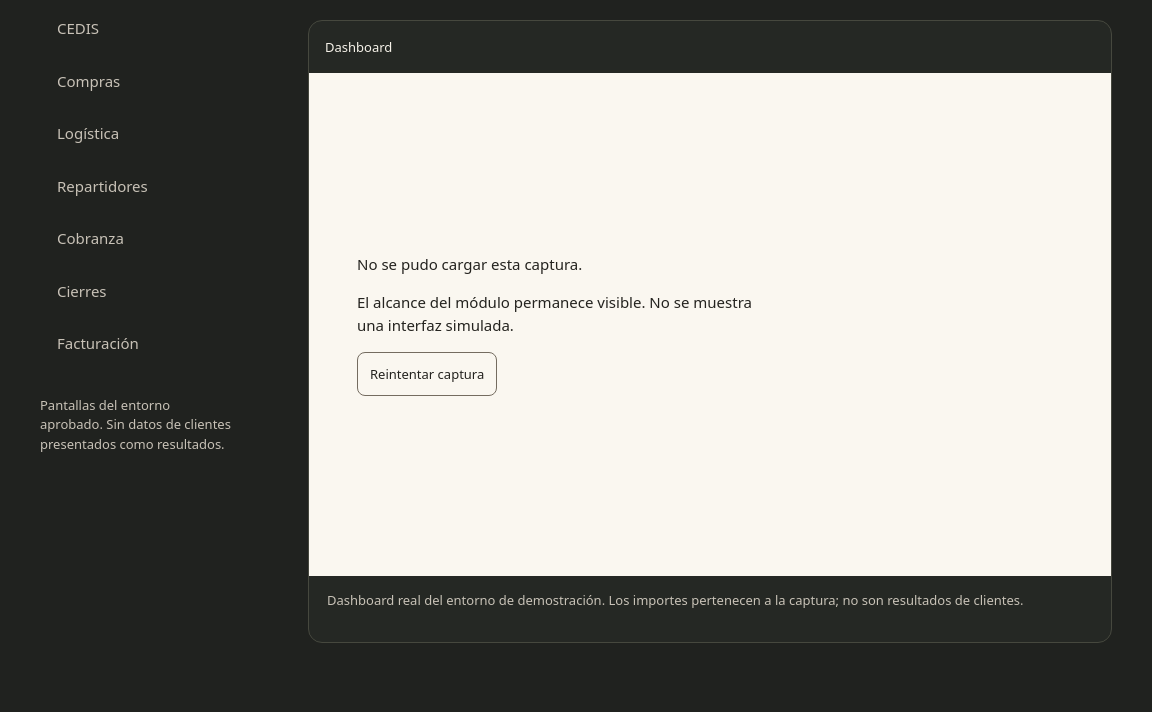
Test: Visible Operations P0 › keeps a failed capture's module visible and offers retry without fabricating interface content
The image size is (1152, 712).
(page scrolled)
Click the button "Reintentar captura" at (427, 374), box [357,352,497,396]
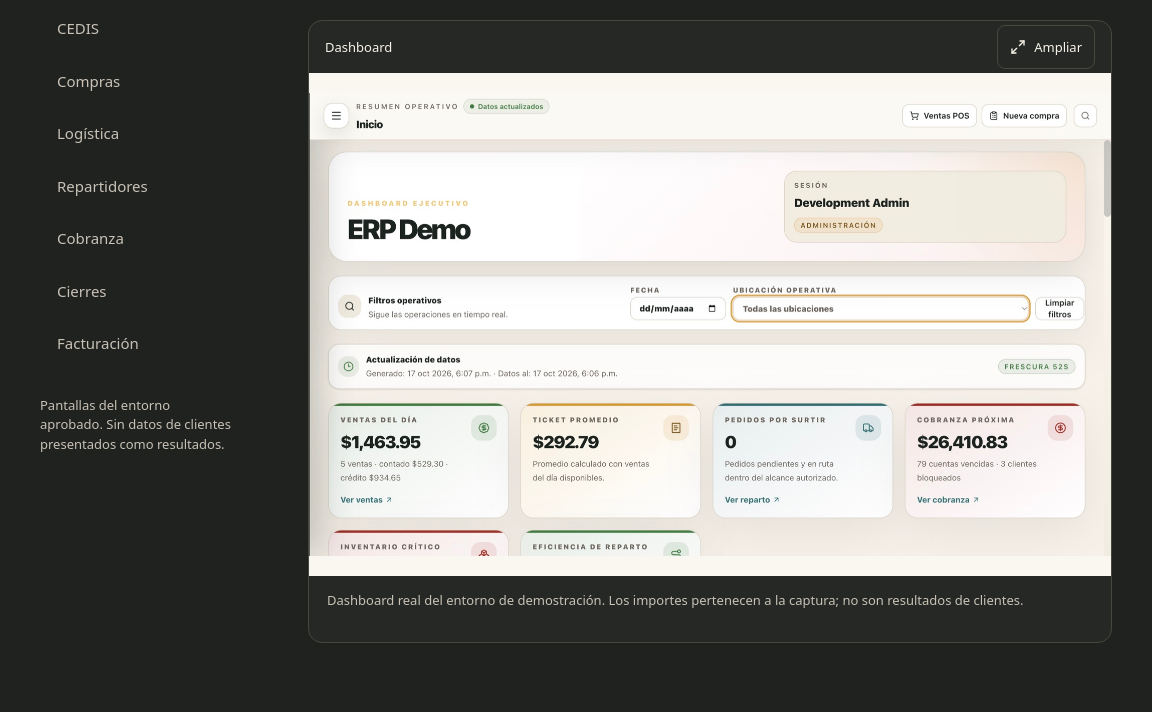
Expected: the picture named "Captura real de Los-Pollos-Distribuidora: Dashboard" is shown, [309,93,1111,556]
